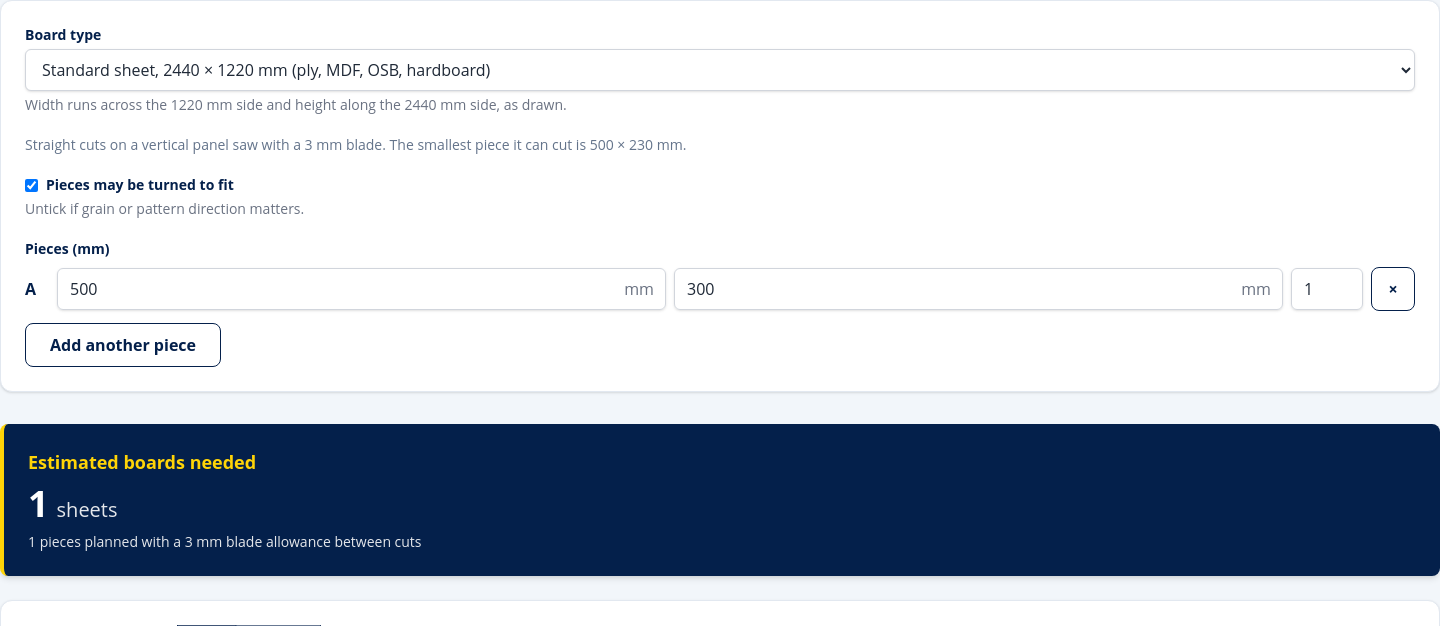
Test case: BoardCuttingCalculator › flags a quantity the browser could not read
The image size is (1440, 626).
Clear the number field named "Quantity of piece A". click: (1327, 289)
box: [1291,268,1363,310]
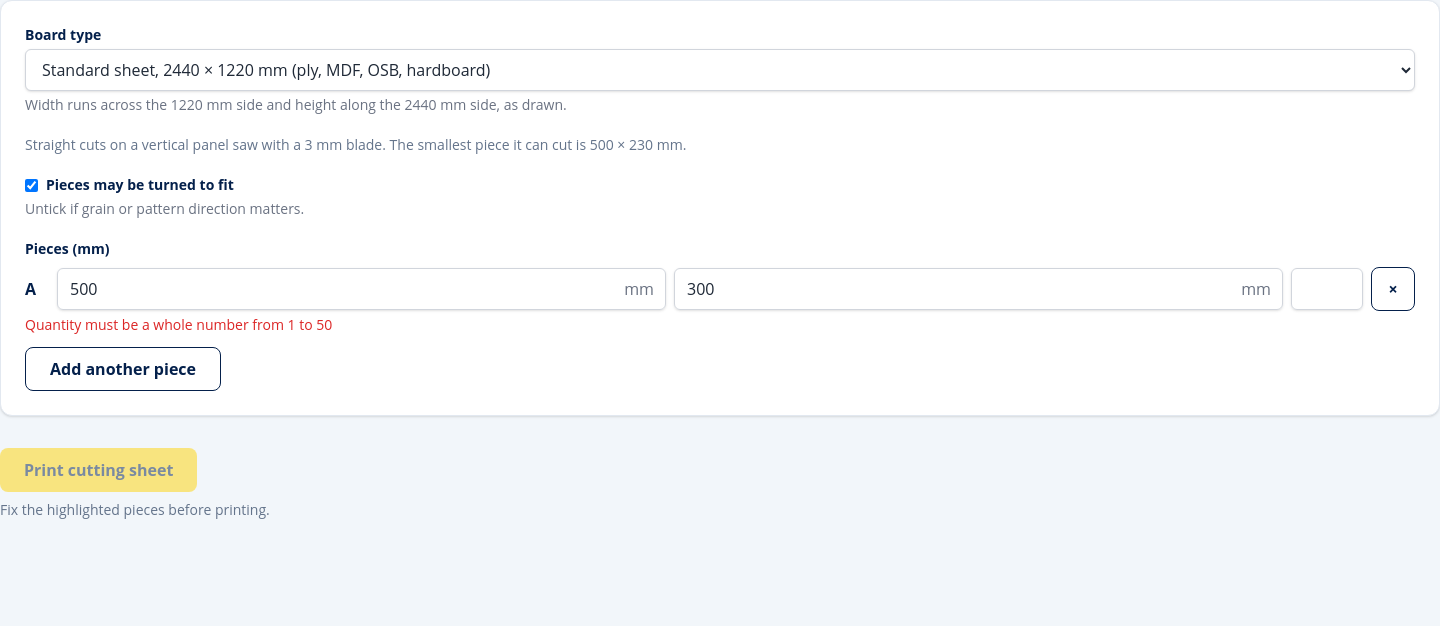
Result: the text "Quantity must be a whole number from 1 to 50" is shown at [25,315,332,334]
Result: the button "Print cutting sheet" is disabled at [0,448,197,492]
